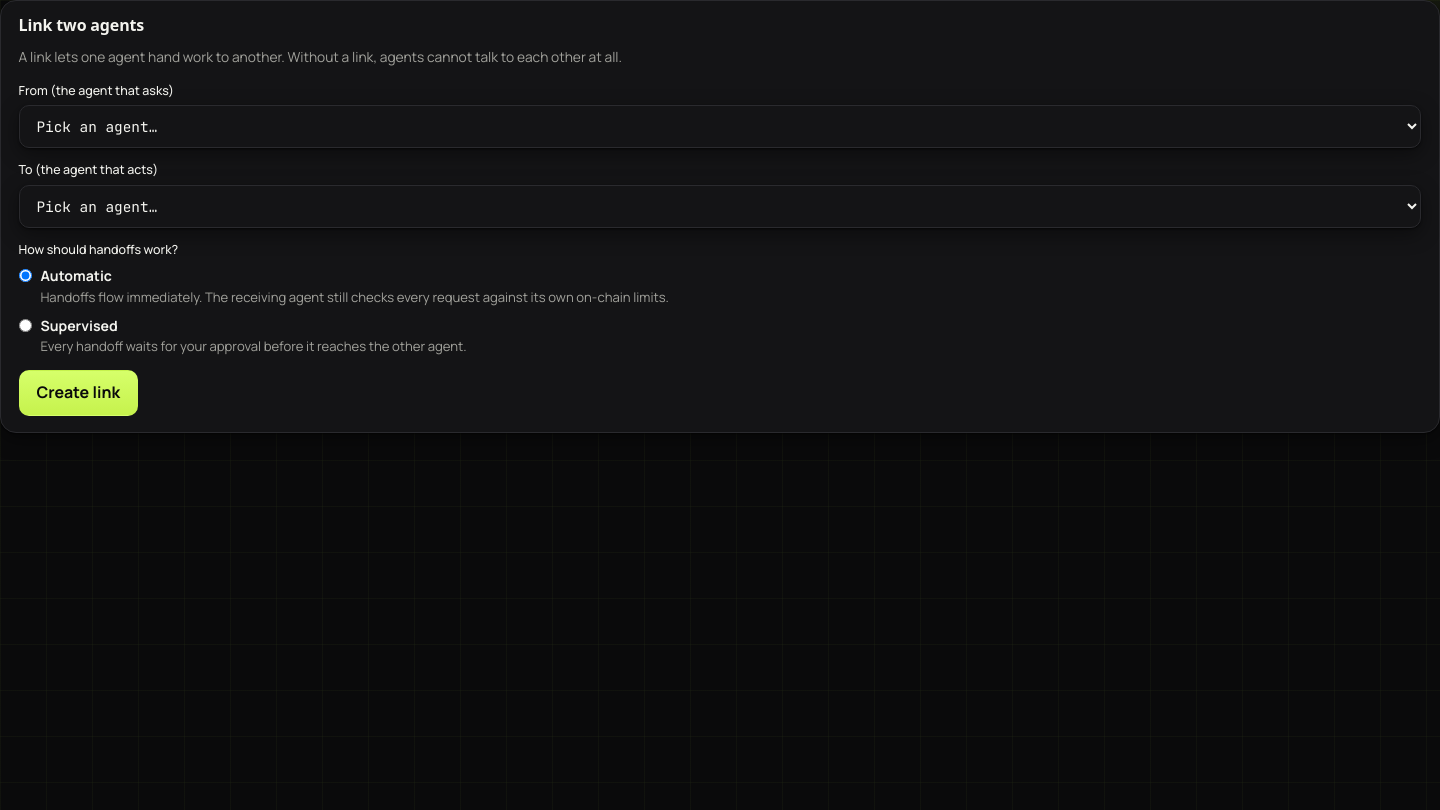
Test case: LinkCreateForm › requires both agents to be picked
Step 1. Click the button with test id "create-link-btn" → click(78, 393), box [19,370,138,416]
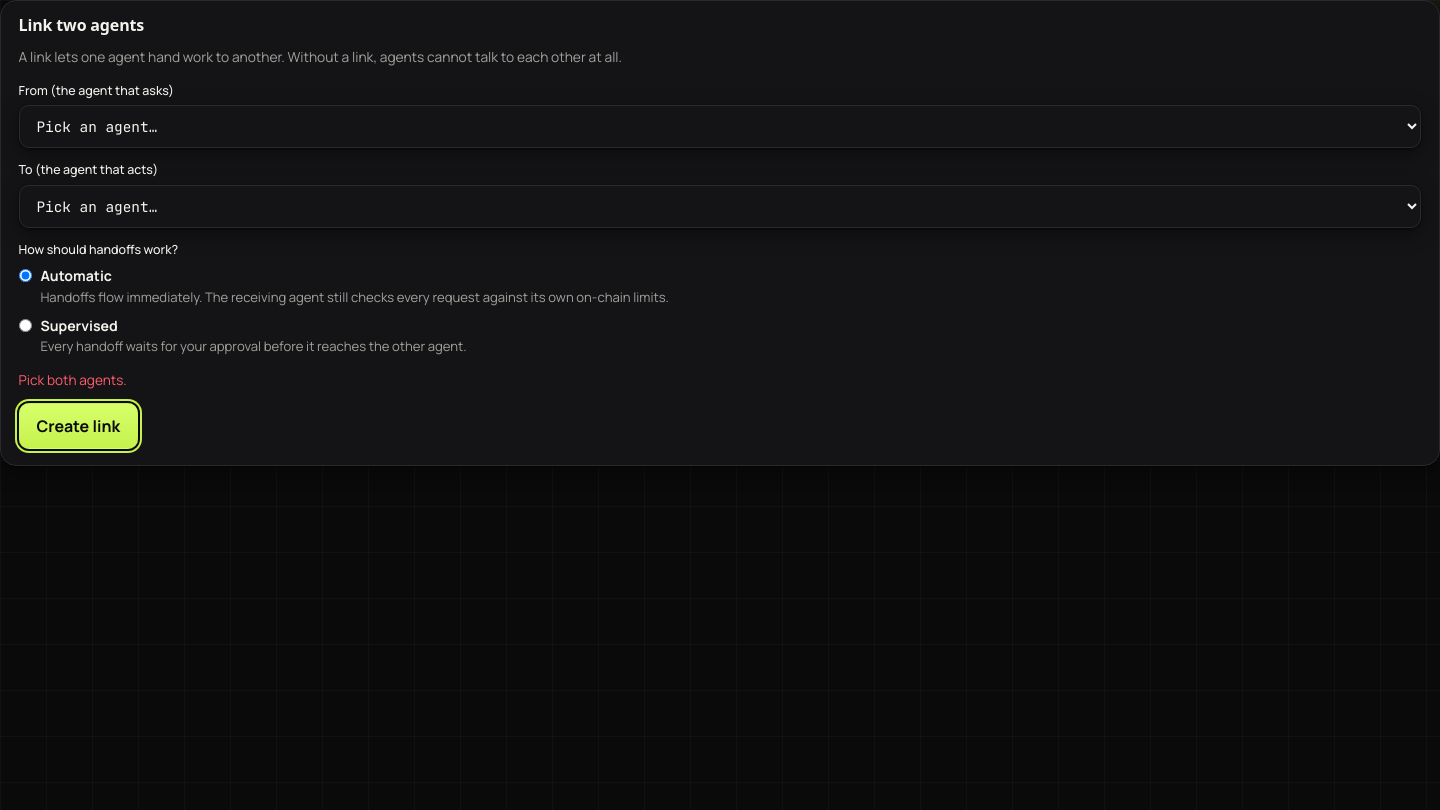
Now the message shows "Pick both agents", box [19,371,127,389]
